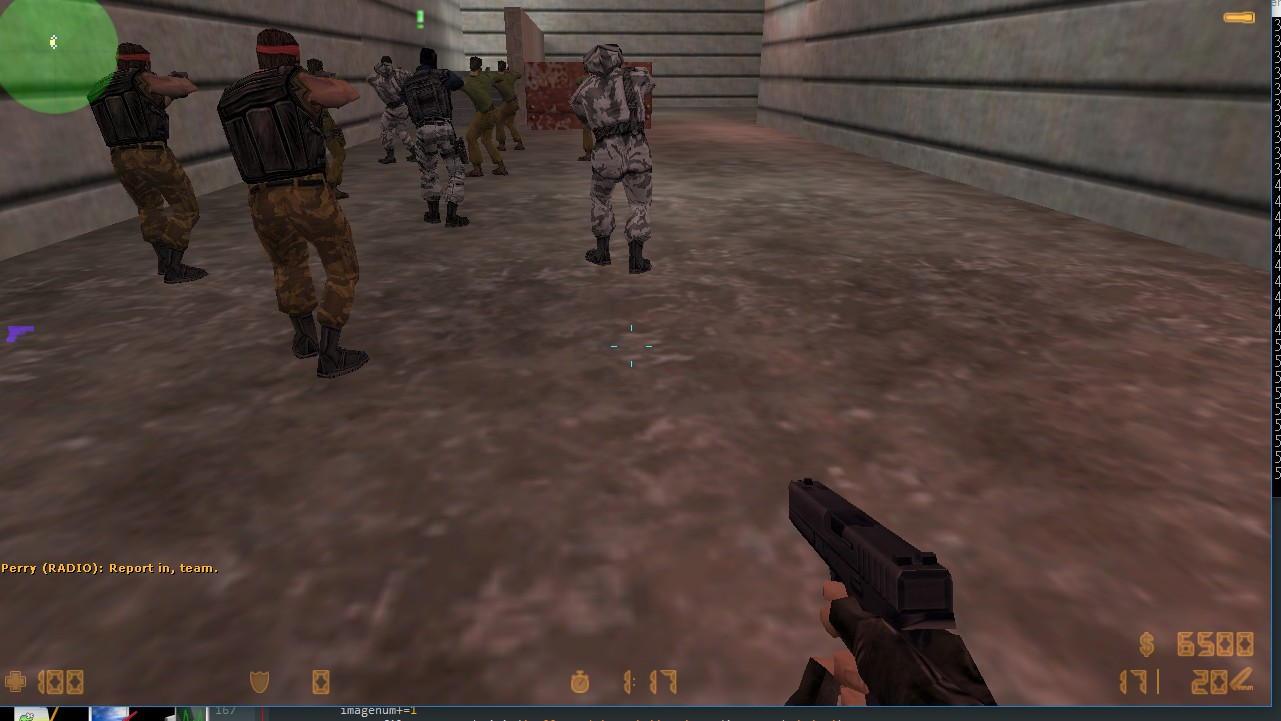person: (223, 28, 375, 389), (83, 42, 215, 287), (571, 41, 665, 277), (398, 47, 477, 243)
